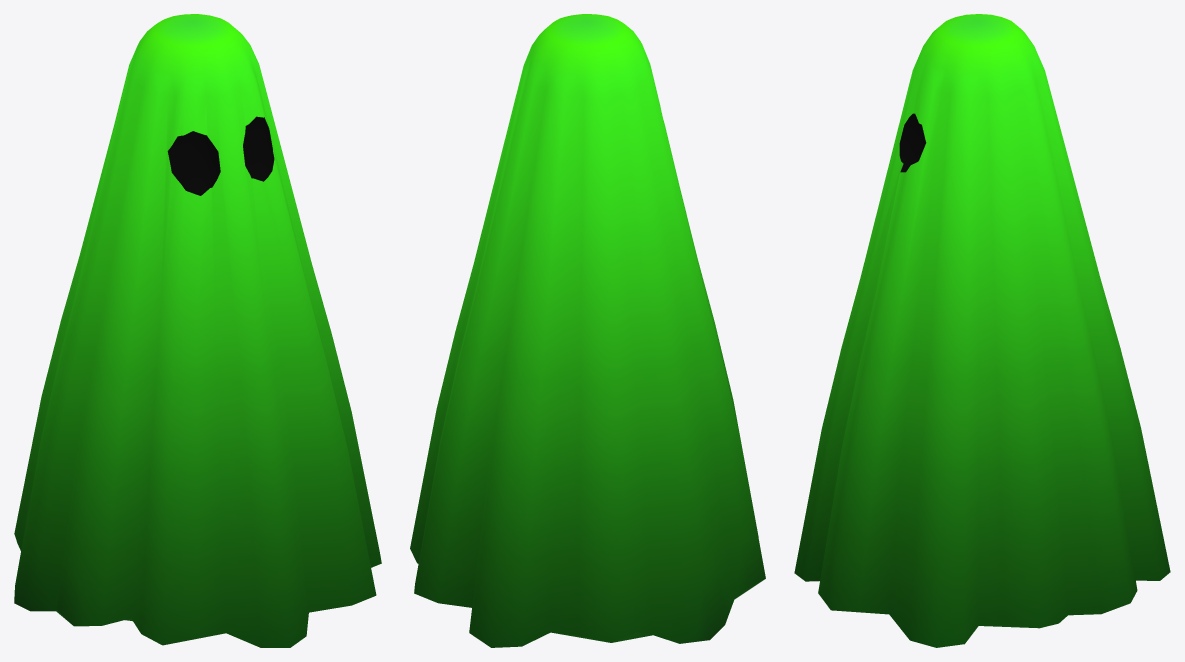
The picture shows the model from 3 angles, left to right: view 1: azimuth 30°, elevation 25°; view 2: azimuth 150°, elevation 25°; view 3: azimuth 270°, elevation 25°; orthographic projection.
Parts seen in each view (by area): view 1: Ghost; view 2: Ghost; view 3: Ghost.
Boxes of the visible parts, x1,y1,x2,y2 form: Ghost: (14,14,381,647); Ghost: (410,14,765,647); Ghost: (794,14,1170,647).
Size of what is drawn, in the model's own units: 1.19 by 2.03 by 1.24.
Materials: 1 (1 with a texture image).
